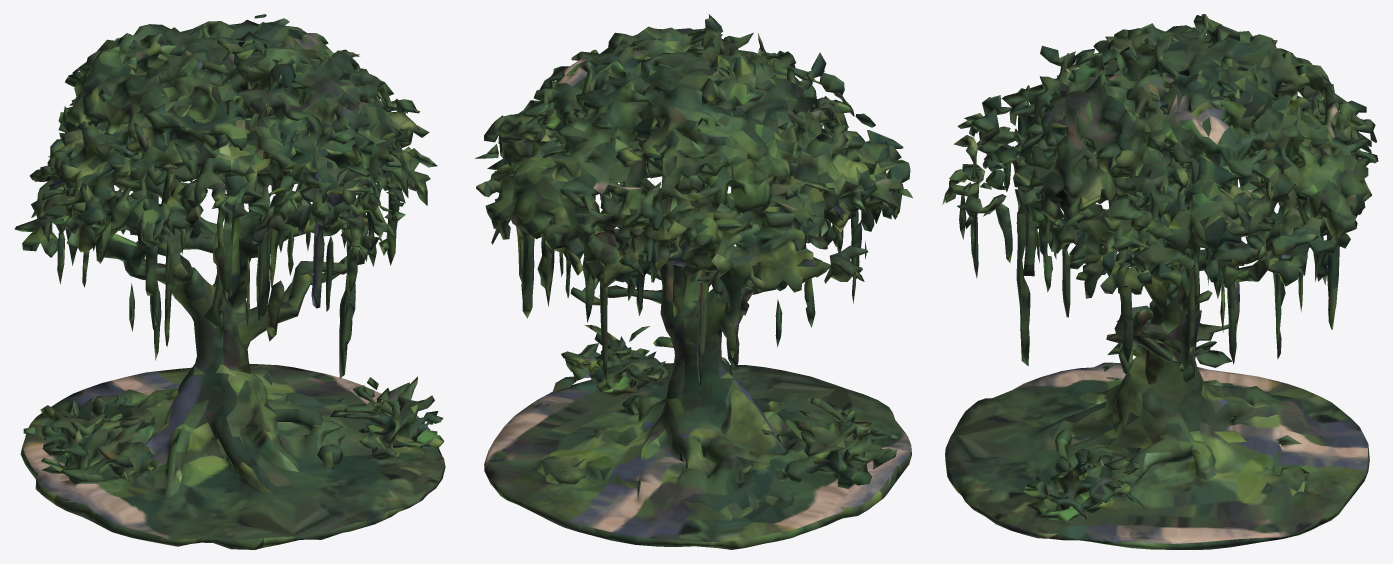
The model's file is AI_VineJungleTree.fbx.
The picture shows the model from 3 angles, left to right: view 1: azimuth 30°, elevation 25°; view 2: azimuth 150°, elevation 25°; view 3: azimuth 270°, elevation 25°; orthographic projection.
Parts seen in each view (by area): view 1: Mesh_0; view 2: Mesh_0; view 3: Mesh_0.
Part boxes in pixels (x1,y1,x2,y2): Mesh_0: (14,14,445,549); Mesh_0: (475,14,912,549); Mesh_0: (942,14,1378,549).
Bounding box in the file's own units: 187 × 197 × 183.
